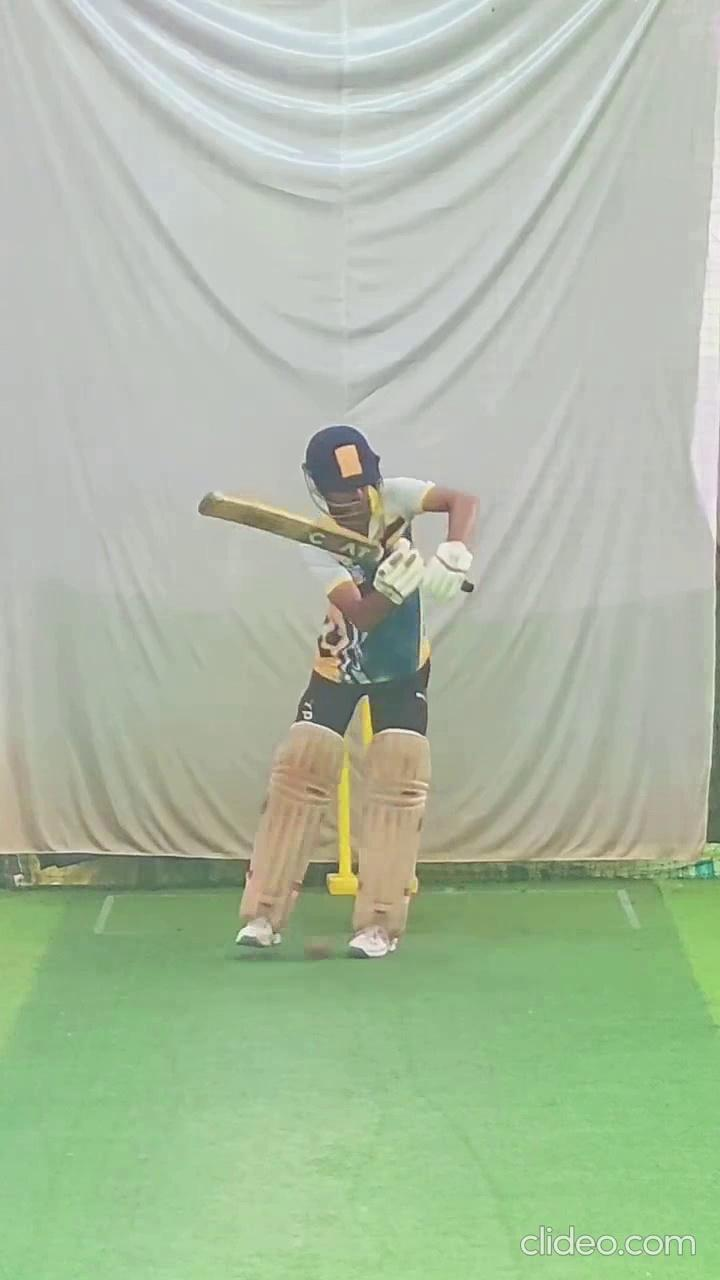bat: (193, 479, 391, 581)
